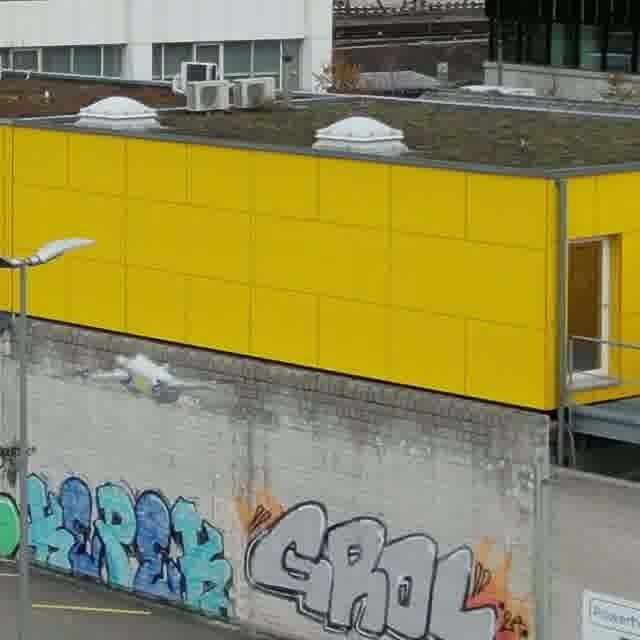Drohne: (79, 353, 215, 403)
